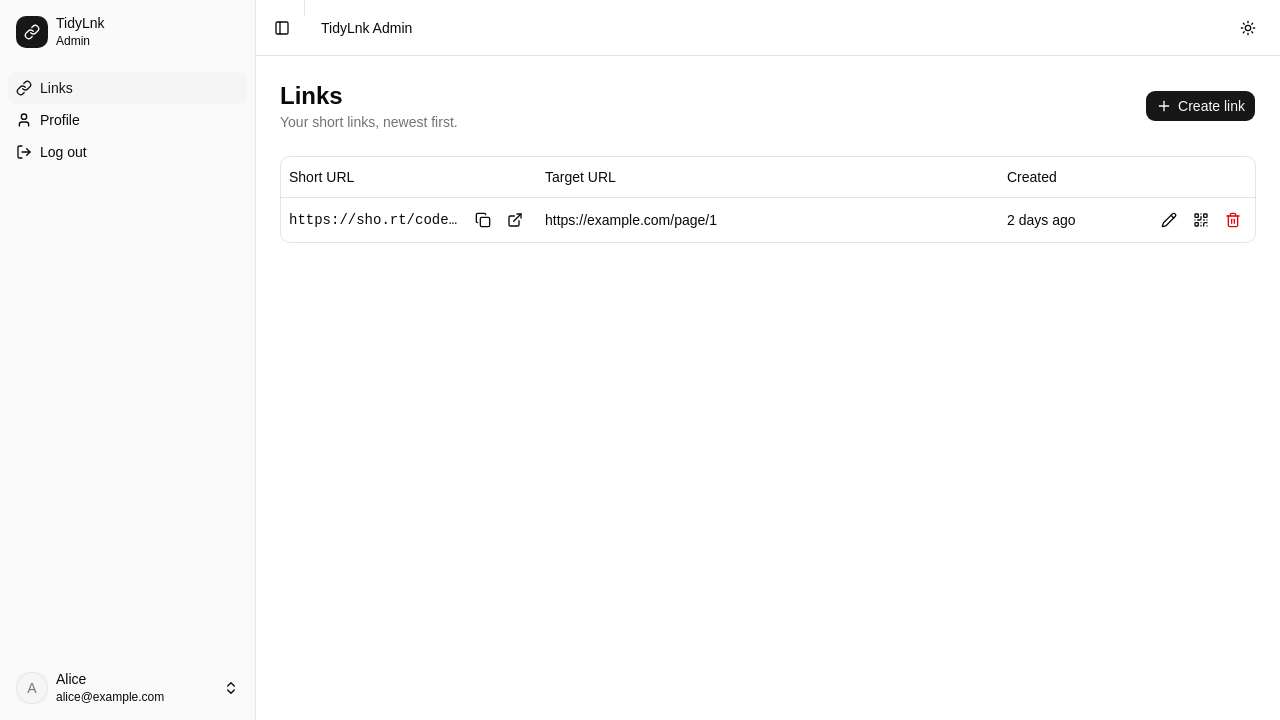
Test: Links page › edits a link's target
Click the button named "Edit https://sho.rt/code1xx": (1169, 220) [1155,206,1183,234]
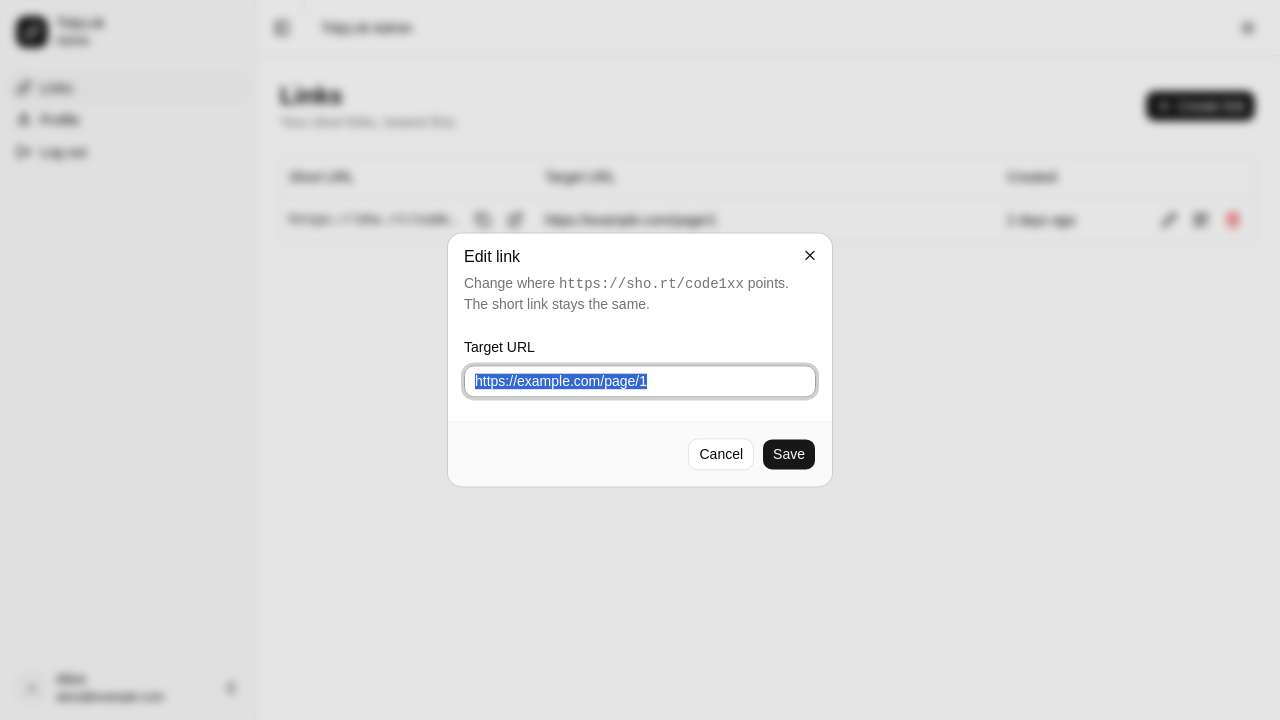
Result: the field labelled "Target URL" holds "https://example.com/page/1"
Replace the text in the field labelled "Target URL" with "https://example.org/new": (640, 382) [464,366,816,398]
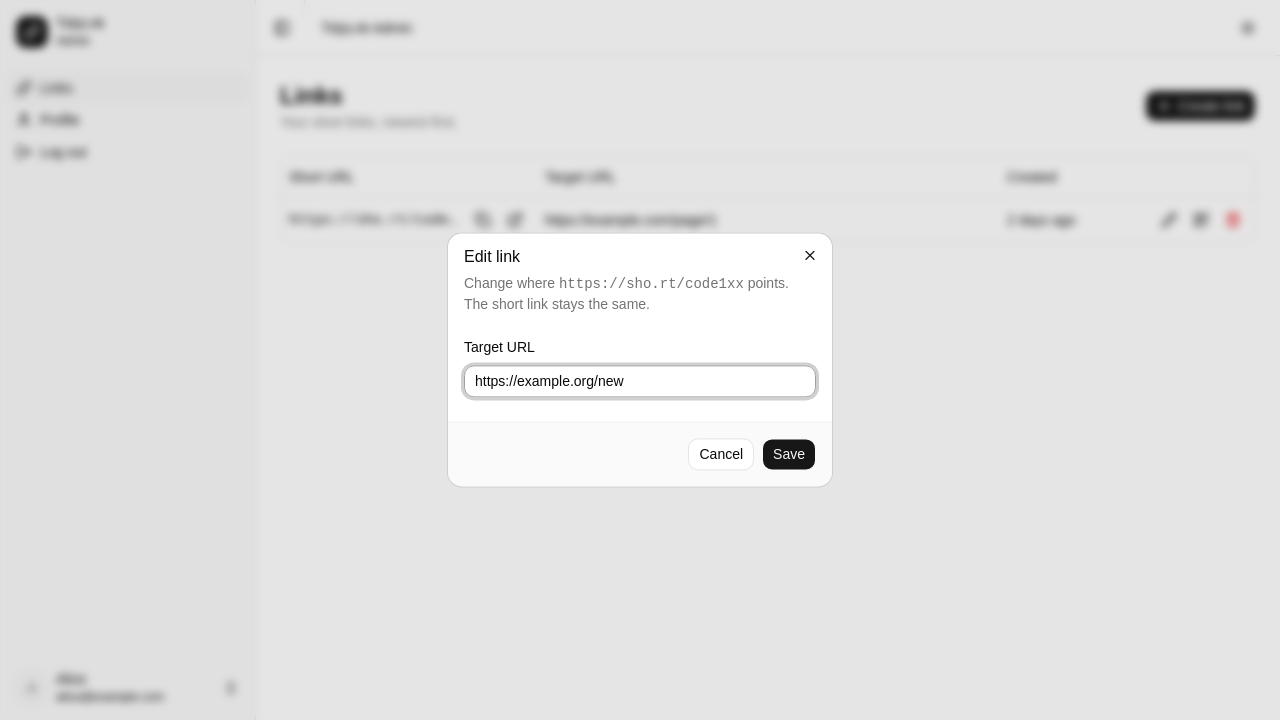
Click the button "Save": (789, 455) [762,439,816,471]
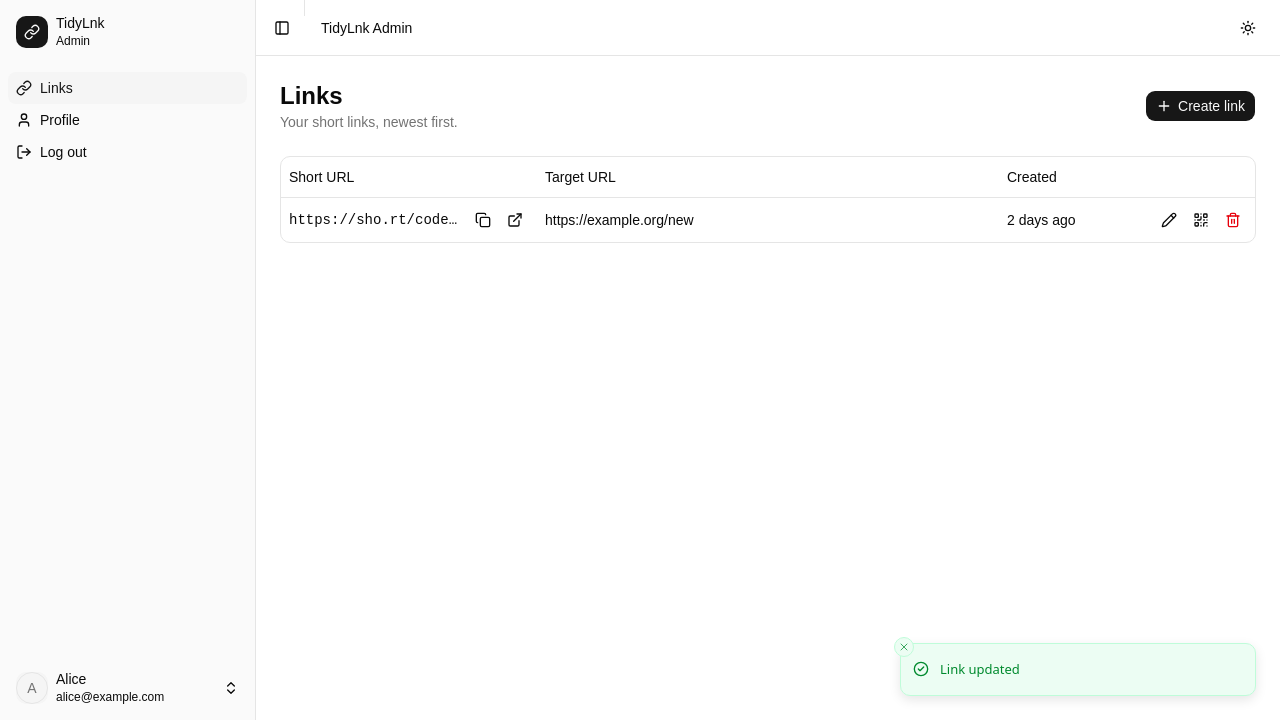
Result: the dialog is gone
Result: the link "https://example.org/new" is shown at [545,212,694,228]
